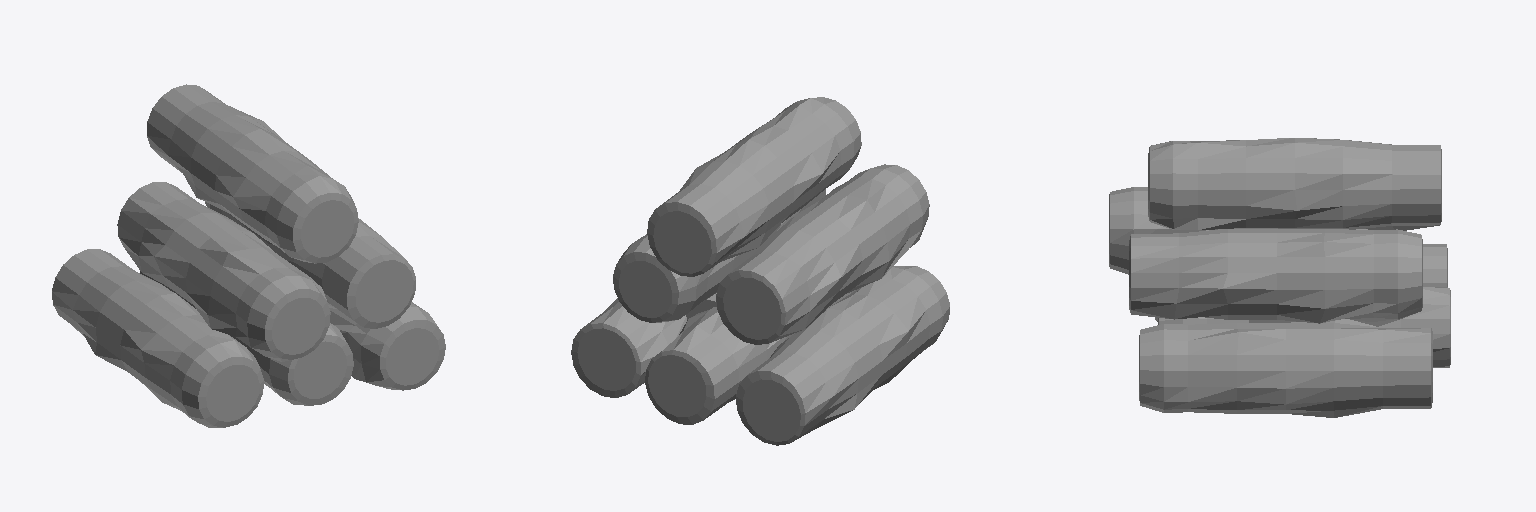
The model's file is wood.obj.
3 views of the same model, side by side, from view 1: azimuth 30°, elevation 25°; view 2: azimuth 150°, elevation 25°; view 3: azimuth 270°, elevation 25° (orthographic).
Parts seen in each view (by area): view 1: Wood.004_Cylinder.009, Wood.005_Cylinder.010, Wood_Cylinder, Wood.003_Cylinder.008, Wood.002_Cylinder.007, Wood.001_Cylinder.006; view 2: Wood.004_Cylinder.009, Wood.005_Cylinder.010, Wood_Cylinder, Wood.001_Cylinder.006, Wood.002_Cylinder.007, Wood.003_Cylinder.008; view 3: Wood.003_Cylinder.008, Wood.002_Cylinder.007, Wood.005_Cylinder.010, Wood.004_Cylinder.009, Wood.001_Cylinder.006, Wood_Cylinder.
Part boxes in pixels (x1,y1,x2,y2): Wood.004_Cylinder.009: (117, 182, 330, 361); Wood.005_Cylinder.010: (147, 84, 358, 263); Wood_Cylinder: (52, 249, 263, 427); Wood.003_Cylinder.008: (205, 202, 415, 328); Wood.002_Cylinder.007: (328, 302, 445, 390); Wood.001_Cylinder.006: (140, 271, 353, 405); Wood.004_Cylinder.009: (716, 164, 929, 344); Wood.005_Cylinder.010: (647, 97, 861, 276); Wood_Cylinder: (736, 266, 949, 445); Wood.001_Cylinder.006: (645, 290, 855, 424); Wood.002_Cylinder.007: (571, 298, 686, 397); Wood.003_Cylinder.008: (613, 189, 825, 322); Wood.003_Cylinder.008: (1129, 228, 1422, 323); Wood.002_Cylinder.007: (1139, 319, 1432, 417); Wood.005_Cylinder.010: (1148, 138, 1441, 230); Wood.004_Cylinder.009: (1109, 187, 1367, 274); Wood.001_Cylinder.006: (1158, 287, 1450, 367); Wood_Cylinder: (1155, 244, 1447, 321).
Size of the model in its own units: 6.44 by 5.73 by 7.47.